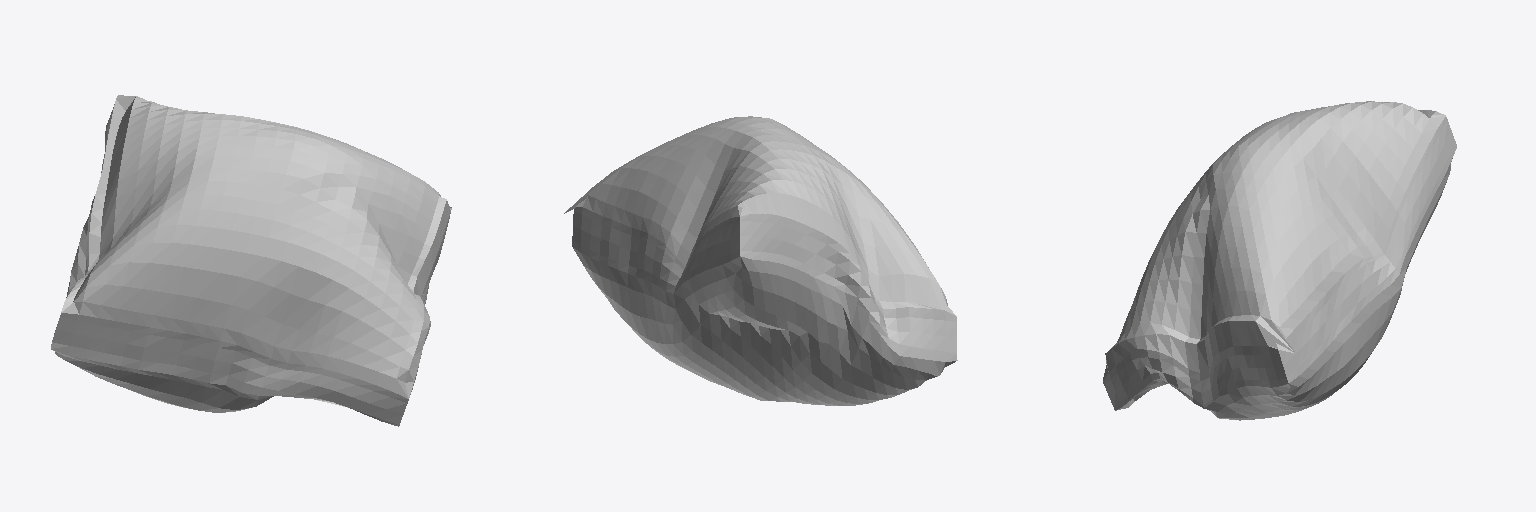
The model's file is PillowB.obj.
3 renders of one model, left to right at view 1: azimuth 30°, elevation 25°; view 2: azimuth 150°, elevation 25°; view 3: azimuth 270°, elevation 25°, orthographic.
Visible parts, largest first — view 1: sack witch_tower; view 2: sack witch_tower; view 3: sack witch_tower.
Part boxes in pixels (left/top/right/bottom): sack witch_tower: left=51, top=95, right=451, bottom=426; sack witch_tower: left=564, top=116, right=957, bottom=405; sack witch_tower: left=1103, top=101, right=1456, bottom=420.
Bounding box in the file's own units: 2.22 × 1.4 × 1.73.